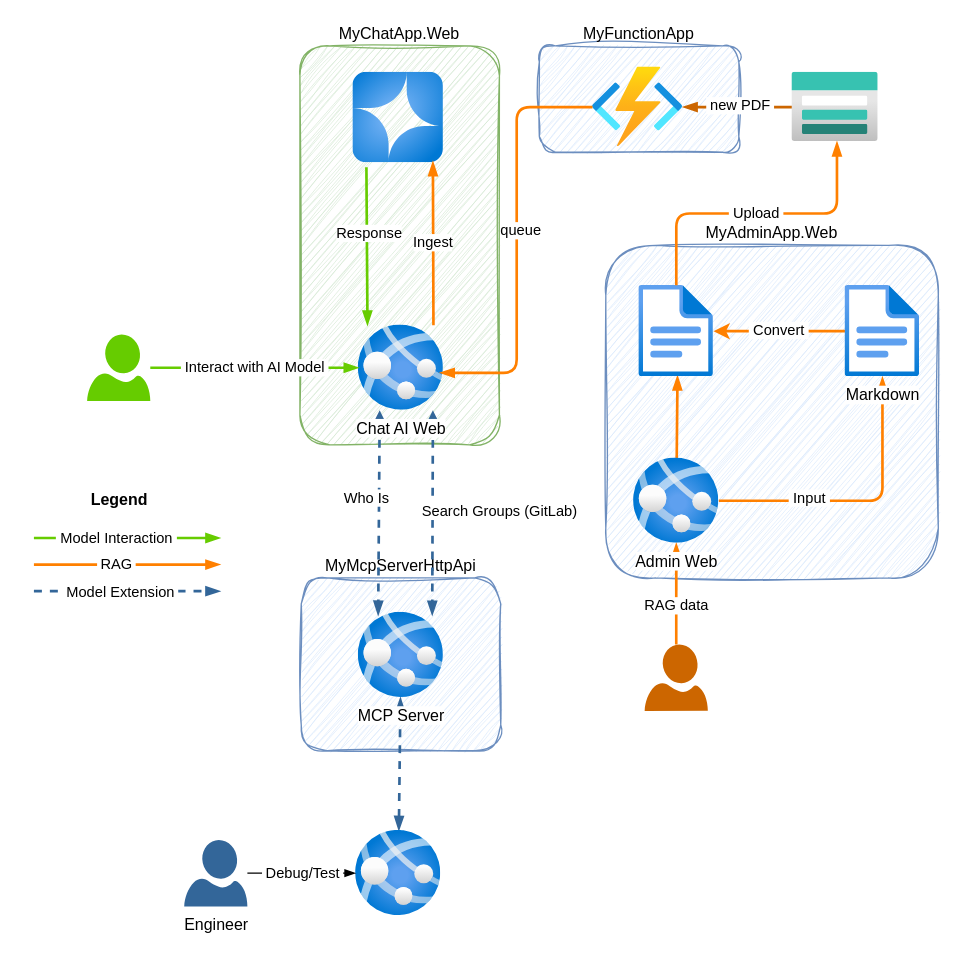
Some shapes in this 962 by 966 pixel diagram are drawn without their labels. The shapes that lost their labels are listed below. From the top down, each one's centre as x and y in pixels, then its label:
point 675,330: PDF
point 118,367: User
point 675,677: Admin
point 397,872: MCP Inspector
